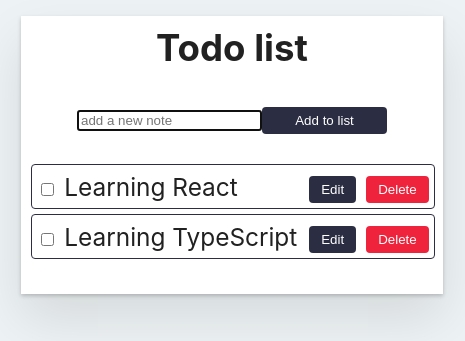
Test: Test Todo list with initial data › Edit second note and save it with keypress enter
Click the button "Edit" next to "Learning TypeScript" at (333, 240), box [309,226,356,253]
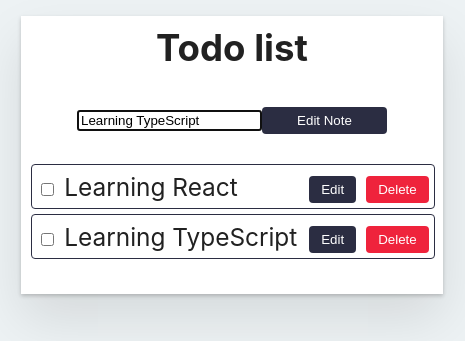
Replace the text in the field with placeholder "add a new note" with "Buy Oil" at (170, 120), box [77,110,262,131]
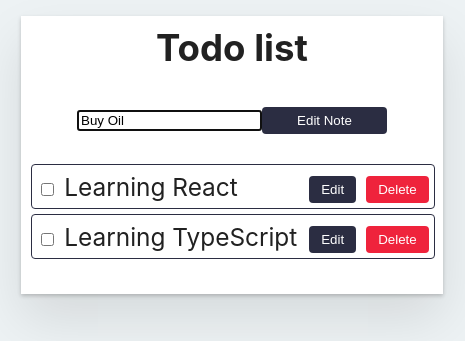
Press Enter in the field with placeholder "add a new note", box [77,110,262,131]
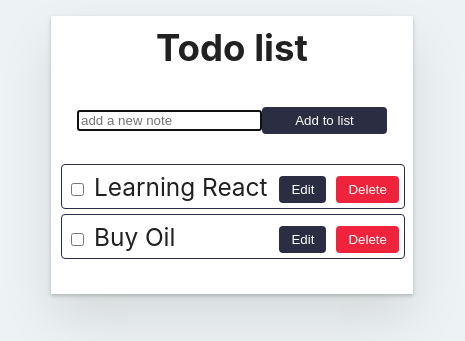
Expected: the text "Buy Oil" is shown, [94,222,175,252]
